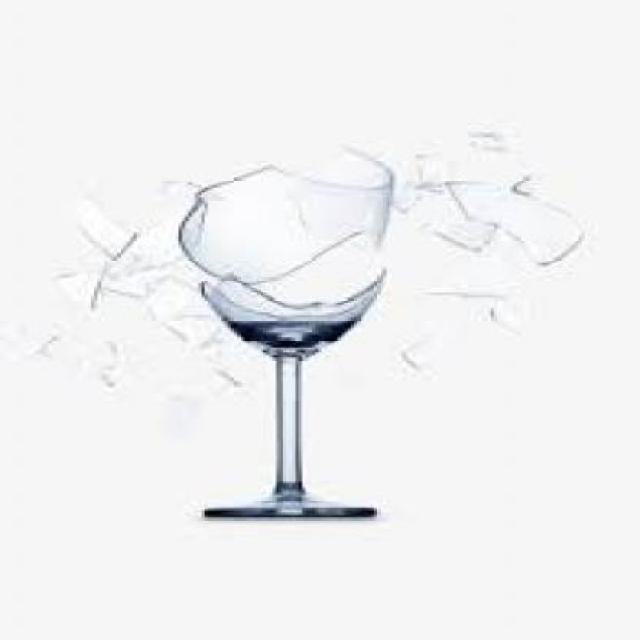kaca: (198, 264, 374, 516), (178, 143, 394, 280), (442, 180, 578, 268), (397, 277, 526, 348), (123, 172, 208, 263), (38, 315, 111, 377), (140, 277, 211, 315), (75, 205, 131, 252), (95, 258, 160, 294), (52, 259, 100, 306), (383, 335, 452, 363), (208, 351, 263, 386), (403, 148, 451, 185), (432, 220, 494, 248), (465, 123, 497, 168), (166, 309, 208, 340), (389, 188, 438, 209)
